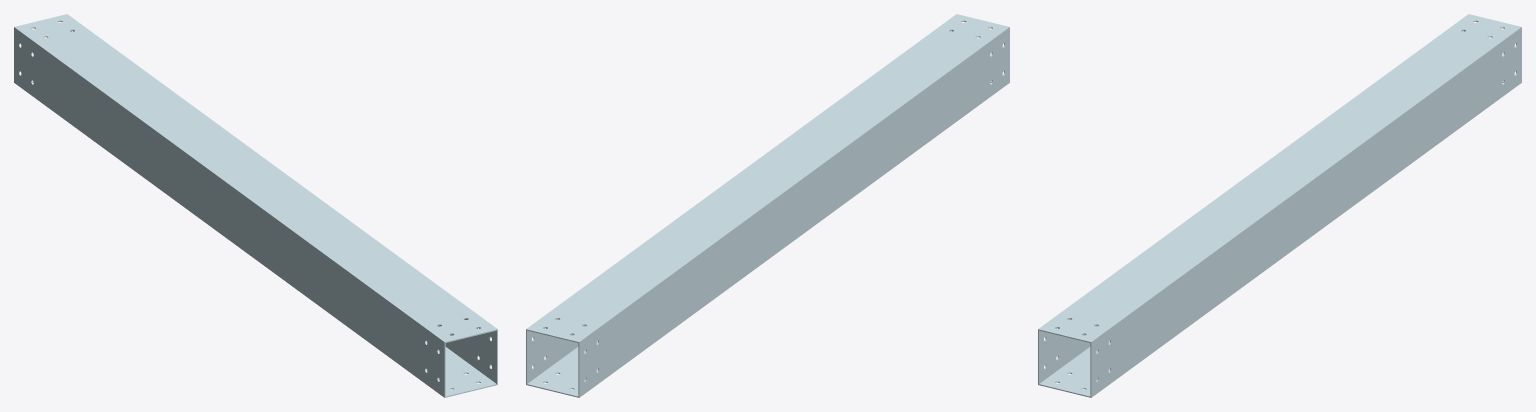
3 renders of one model, left to right at view 1: azimuth 30°, elevation 25°; view 2: azimuth 150°, elevation 25°; view 3: azimuth 330°, elevation 25°, orthographic.
Parts seen in each view (by area): view 1: <组件#28>_1; view 2: <组件#28>_1; view 3: <组件#28>_1.
Part boxes in pixels (x1=…): <组件#28>_1: x1=14, y1=14, x2=497, y2=397; <组件#28>_1: x1=526, y1=14, x2=1009, y2=397; <组件#28>_1: x1=1038, y1=14, x2=1521, y2=397.
Bounding box in the file's own units: 7.87 × 7.87 × 110.
